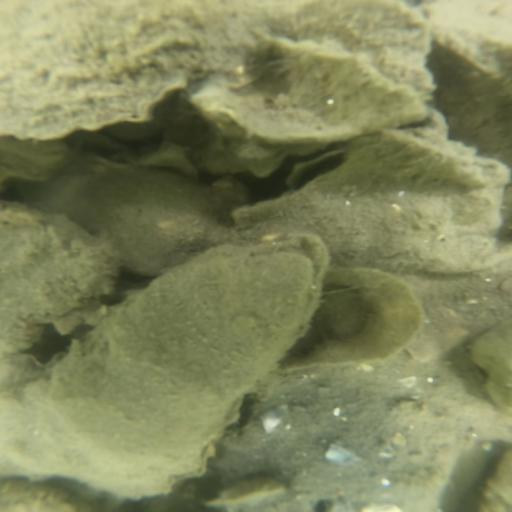Oyster-Closed: (234, 136, 504, 275), (2, 1, 278, 132), (207, 387, 476, 512), (35, 165, 224, 273), (5, 202, 116, 347), (251, 2, 428, 83), (347, 122, 490, 191)
Oyster-Open: (41, 234, 332, 502), (186, 38, 447, 181)
